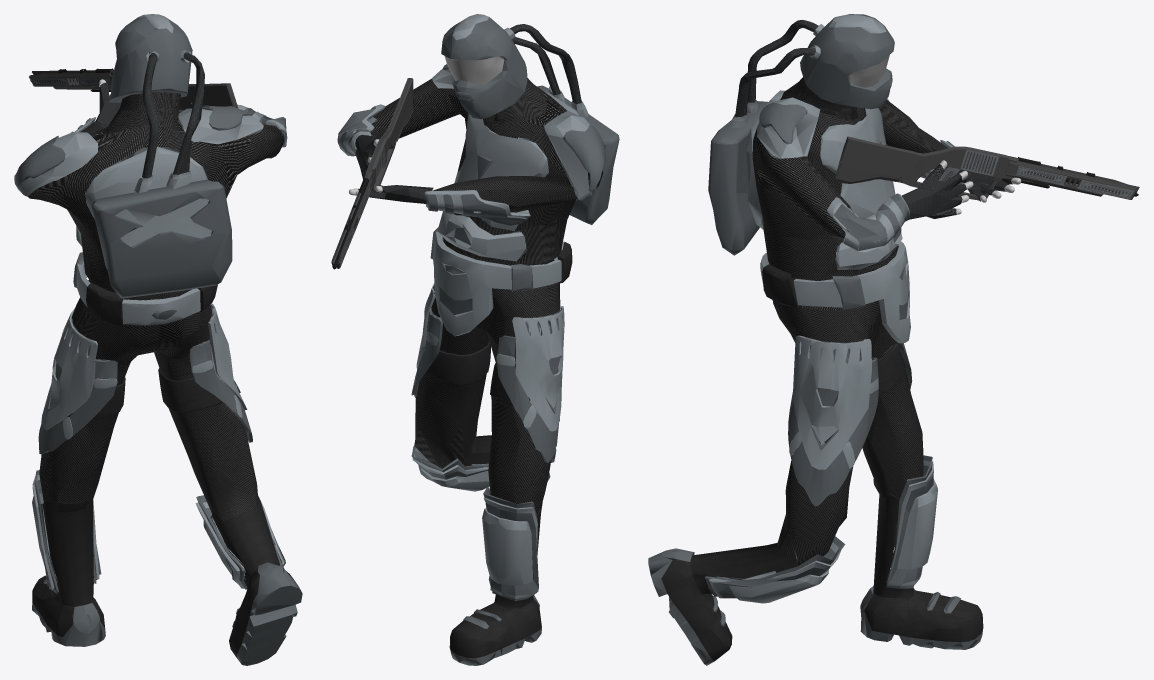
Rendered from AndarEscopeta.0004.obj.
The picture shows the model from 3 angles, left to right: view 1: azimuth 30°, elevation 25°; view 2: azimuth 150°, elevation 25°; view 3: azimuth 270°, elevation 25°; orthographic projection. The views are drawn at different scales.
Parts seen in each view (by area): view 1: personaje:extrudedSurface2 polySurface52, personaje:PANTALON polySurface52, personaje:bota1 polySurface52, personaje:CAMISETABUENA polySurface52, personaje:pPipe4 polySurface52, personaje:pCube4 polySurface52, personaje:cosoarmdaurapierna1 polySurface52, personaje:cinturon polySurface52, escopeta:Cylinder001 polySurface52, personaje:polySurface6 polySurface52, personaje:armadbota1 polySurface52, personaje:cosoarmadurapierna2 polySurface52 (+3 smaller); view 2: personaje:PANTALON polySurface52, personaje:CAMISETABUENA polySurface52, personaje:pPipe4 polySurface52, personaje:extrudedSurface2 polySurface52, personaje:cinturon polySurface52, personaje:pCube4 polySurface52, personaje:bota1 polySurface52, personaje:armadbota1 polySurface52, personaje:cosoarmdaurapierna1 polySurface52, escopeta:Cylinder001 polySurface52, personaje:polySurface6 polySurface52, personaje:HOMBRO2 polySurface52 (+6 smaller); view 3: personaje:bota1 polySurface52, personaje:CAMISETABUENA polySurface52, personaje:PANTALON polySurface52, personaje:extrudedSurface2 polySurface52, personaje:pPipe4 polySurface52, personaje:pCube4 polySurface52, escopeta:Cylinder001 polySurface52, personaje:cinturon polySurface52, personaje:armadbota1 polySurface52, personaje:cosoarmadurapierna2 polySurface52, personaje:hombro1 polySurface52, personaje:partearmdBRAZO2 polySurface52 (+2 smaller).
Part boxes in pixels (left/top/right/bottom): personaje:extrudedSurface2 polySurface52: left=91, top=14, right=232, bottom=298; personaje:PANTALON polySurface52: left=39, top=280, right=258, bottom=542; personaje:bota1 polySurface52: left=32, top=496, right=302, bottom=665; personaje:CAMISETABUENA polySurface52: left=22, top=92, right=283, bottom=326; personaje:pPipe4 polySurface52: left=14, top=82, right=286, bottom=246; personaje:pCube4 polySurface52: left=34, top=303, right=285, bottom=593; personaje:cosoarmdaurapierna1 polySurface52: left=41, top=308, right=117, bottom=439; personaje:cinturon polySurface52: left=73, top=252, right=217, bottom=326; escopeta:Cylinder001 polySurface52: left=29, top=68, right=238, bottom=112; personaje:polySurface6 polySurface52: left=93, top=368, right=222, bottom=418; personaje:armadbota1 polySurface52: left=32, top=475, right=284, bottom=590; personaje:cosoarmadurapierna2 polySurface52: left=189, top=339, right=252, bottom=442; personaje:PANTALON polySurface52: left=415, top=251, right=560, bottom=515; personaje:CAMISETABUENA polySurface52: left=370, top=58, right=602, bottom=290; personaje:pPipe4 polySurface52: left=338, top=68, right=596, bottom=261; personaje:extrudedSurface2 polySurface52: left=441, top=14, right=619, bottom=224; personaje:cinturon polySurface52: left=430, top=219, right=572, bottom=336; personaje:pCube4 polySurface52: left=411, top=283, right=560, bottom=601; personaje:bota1 polySurface52: left=449, top=435, right=556, bottom=665; personaje:armadbota1 polySurface52: left=412, top=446, right=537, bottom=598; personaje:cosoarmdaurapierna1 polySurface52: left=496, top=306, right=564, bottom=431; escopeta:Cylinder001 polySurface52: left=331, top=78, right=413, bottom=269; personaje:polySurface6 polySurface52: left=426, top=341, right=511, bottom=402; personaje:HOMBRO2 polySurface52: left=563, top=125, right=605, bottom=191; personaje:bota1 polySurface52: left=648, top=479, right=983, bottom=665; personaje:CAMISETABUENA polySurface52: left=752, top=77, right=947, bottom=309; personaje:PANTALON polySurface52: left=772, top=256, right=923, bottom=572; personaje:extrudedSurface2 polySurface52: left=708, top=14, right=894, bottom=255; personaje:pPipe4 polySurface52: left=745, top=90, right=1012, bottom=269; personaje:pCube4 polySurface52: left=705, top=335, right=933, bottom=598; escopeta:Cylinder001 polySurface52: left=835, top=136, right=1139, bottom=200; personaje:cinturon polySurface52: left=760, top=241, right=910, bottom=343; personaje:armadbota1 polySurface52: left=708, top=460, right=937, bottom=603; personaje:cosoarmadurapierna2 polySurface52: left=788, top=345, right=878, bottom=506; personaje:hombro1 polySurface52: left=759, top=102, right=807, bottom=144; personaje:partearmdBRAZO2 polySurface52: left=827, top=193, right=909, bottom=252.
Bounding box in the file's own units: 4.24 × 9.47 × 6.5.
